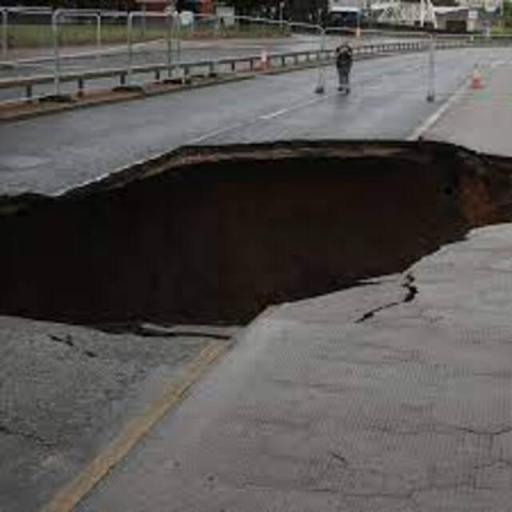Concentric_Crack: (0, 141, 512, 338)
